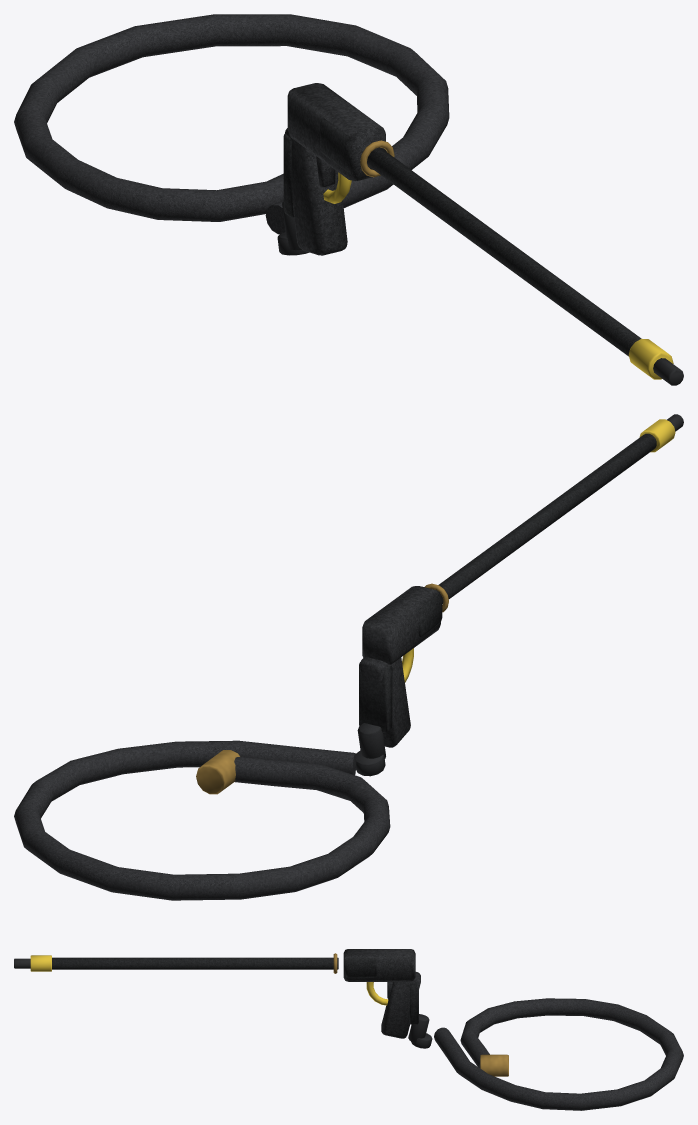
The model's file is asset_079_pressure_washer_hose_and_wand.glb.
3 renders of one model, top to bottom at view 1: azimuth 30°, elevation 25°; view 2: azimuth 150°, elevation 25°; view 3: azimuth 270°, elevation 25°, orthographic. The views are drawn at different scales.
Parts seen in each view (by area): view 1: MESH_WasherHoseCoil, MESH_WandLance, MESH_GunBody, MESH_GunGrip, MESH_GunShroud, MESH_WandTipCollar, MESH_GunGripStrap, MESH_WandNozzle; view 2: MESH_WasherHoseCoil, MESH_WandLance, MESH_GunBody, MESH_GunGrip, MESH_GunGripStrap, MESH_HoseMachineCoupler, MESH_GunHoseInlet; view 3: MESH_WasherHoseCoil, MESH_WandLance, MESH_GunBody, MESH_GunGrip, MESH_GunShroud, MESH_HoseMachineCoupler, MESH_GunGripStrap, MESH_GunHoseInlet, MESH_WandTipCollar.
Boxes of the visible parts, x1,y1,x2,y2 form: MESH_WasherHoseCoil: (14, 14, 449, 234); MESH_WandLance: (367, 147, 641, 356); MESH_GunBody: (287, 83, 384, 180); MESH_GunGrip: (285, 128, 347, 255); MESH_GunShroud: (320, 118, 385, 172); MESH_WandTipCollar: (628, 339, 673, 379); MESH_GunGripStrap: (283, 133, 294, 217); MESH_WandNozzle: (653, 358, 683, 385); MESH_WasherHoseCoil: (14, 740, 390, 900); MESH_WandLance: (438, 433, 656, 603); MESH_GunBody: (362, 586, 440, 664); MESH_GunGrip: (360, 657, 410, 747); MESH_GunGripStrap: (359, 662, 392, 732); MESH_HoseMachineCoupler: (196, 750, 239, 794); MESH_GunHoseInlet: (357, 723, 385, 759); MESH_WasherHoseCoil: (434, 998, 683, 1110); MESH_WandLance: (52, 957, 338, 969); MESH_GunBody: (343, 949, 415, 981); MESH_GunGrip: (381, 972, 420, 1038); MESH_GunShroud: (345, 958, 376, 977); MESH_HoseMachineCoupler: (480, 1054, 508, 1076); MESH_GunGripStrap: (409, 982, 418, 1024); MESH_GunHoseInlet: (408, 1014, 429, 1042); MESH_WandTipCollar: (30, 955, 51, 971).
Size of the model in its own units: 0.5059 by 0.225 by 1.4.
7 materials, 5 textured.
